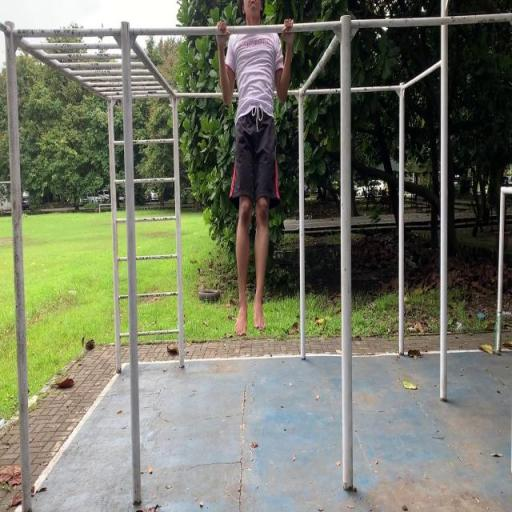Normal_BrenchPress: (214, 0, 296, 336)
